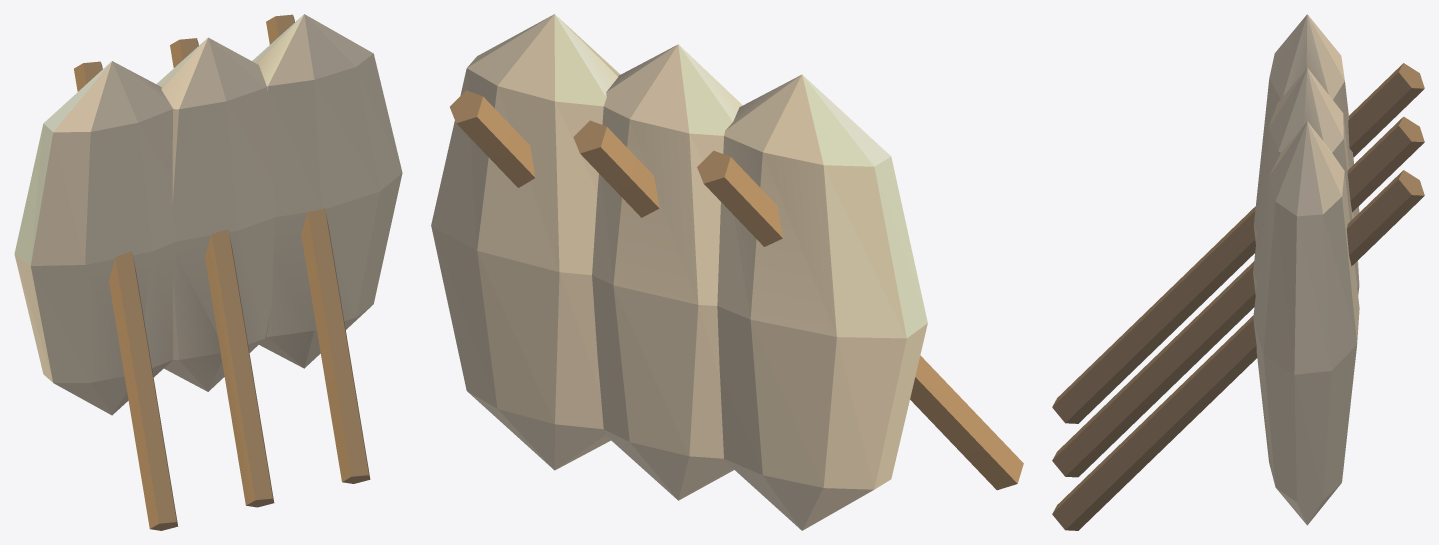
The model's file is find_duck_feather.glb.
3 views of the same model, side by side, from view 1: azimuth 30°, elevation 25°; view 2: azimuth 150°, elevation 25°; view 3: azimuth 270°, elevation 25° (orthographic). The views are drawn at different scales.
Parts seen in each view (by area): view 1: find_duck_feather; view 2: find_duck_feather; view 3: find_duck_feather.
Boxes of the visible parts, x1=… form: find_duck_feather: x1=14, y1=14, x2=402, y2=530; find_duck_feather: x1=431, y1=14, x2=1023, y2=530; find_duck_feather: x1=1052, y1=14, x2=1424, y2=530.
Size of the model in its own units: 0.4439 by 0.4355 by 0.3357.
